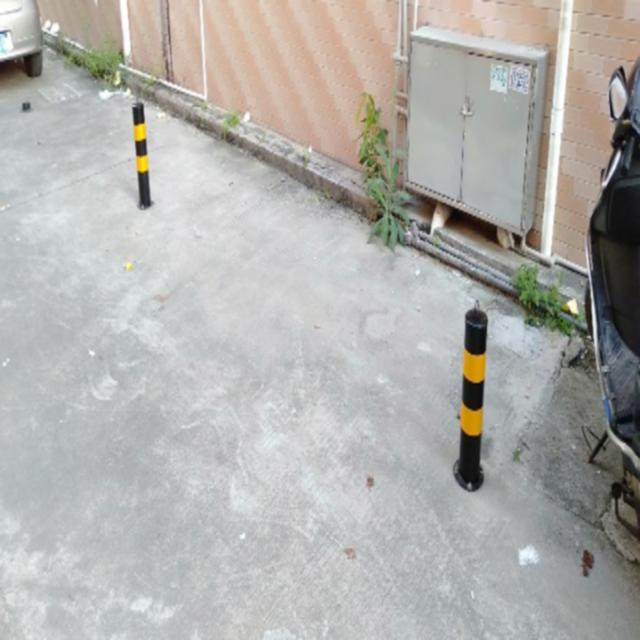car: (0, 0, 43, 77)
motorbike: (582, 49, 639, 533)
warning_column: (450, 299, 490, 486), (130, 98, 154, 210)
